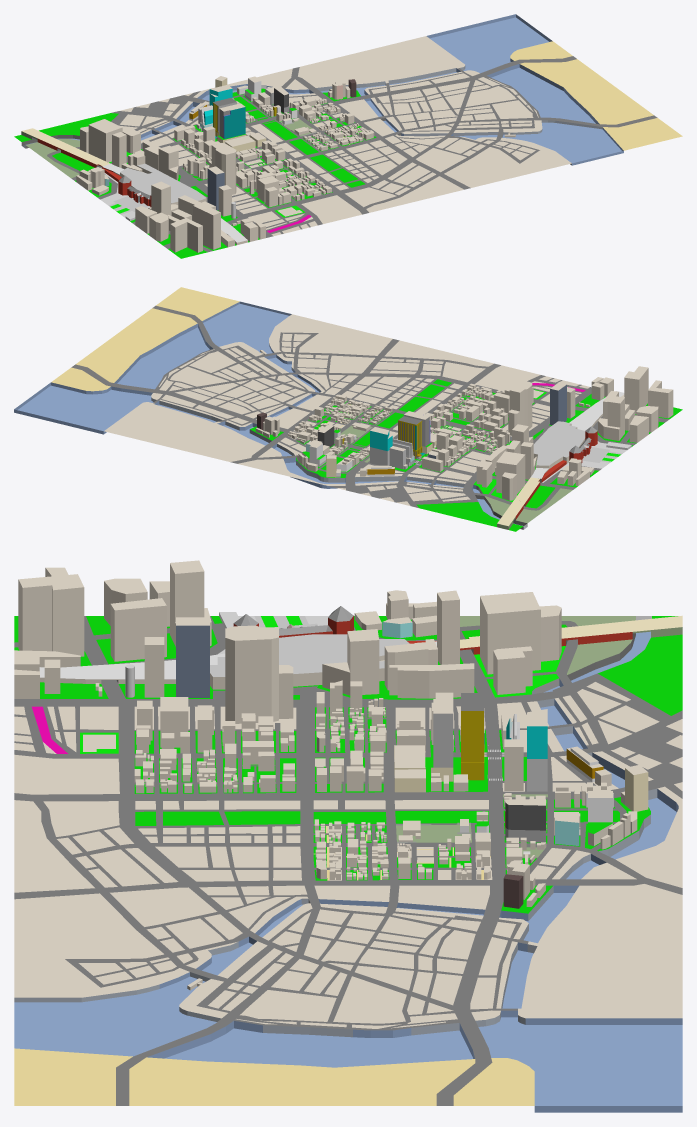
File: nihonbashi.gltf
3 renders of one model, top to bottom at view 1: azimuth 30°, elevation 25°; view 2: azimuth 150°, elevation 25°; view 3: azimuth 270°, elevation 25°, orthographic. The views are drawn at different scales.
Parts seen in each view (by area): view 1: Node5957, Node337, Node266, Node1021, Node268, Node980, Node1003, Node267, Node3205, Node27, Node3, Node269 (+11 smaller); view 2: Node5957, Node337, Node266, Node1021, Node268, Node980, Node1003, Node3205, Node267, Node27, Node3206, Node3 (+11 smaller); view 3: Node5957, Node337, Node1021, Node266, Node268, Node980, Node1003, Node267, Node27, Node3206, Node3, Node269 (+49 smaller).
Part boxes in pixels (x1,y1,x2,y2): Node5957: (47,56,657,252); Node337: (298,36,464,87); Node266: (520,59,653,124); Node1021: (430,17,548,73); Node268: (444,138,571,187); Node980: (502,122,621,163); Node1003: (491,67,595,123); Node267: (603,118,682,150); Node3205: (120,163,206,203); Node27: (366,176,463,212); Node3: (301,195,361,222); Node269: (510,41,572,60); Node5957: (71,305,668,510); Node337: (104,402,265,461); Node266: (75,308,197,382); Node1021: (17,385,153,431); Node268: (269,314,392,355); Node980: (203,304,288,353); Node1003: (117,327,209,389); Node3205: (533,421,585,465); Node267: (156,287,239,320); Node27: (384,340,493,366); Node3206: (416,502,499,526); Node3: (475,365,533,391); Node5957: (14,616,682,1105); Node337: (518,884,682,1018); Node1021: (478,1017,682,1105); Node266: (129,1057,475,1105); Node268: (14,893,189,997); Node980: (14,976,216,1056); Node1003: (164,1028,472,1067); Node267: (14,1048,132,1105); Node27: (14,800,94,892); Node3206: (598,634,682,715); Node3: (14,757,119,794); Node269: (453,1058,534,1105).
Bounding box in the file's own units: 330944 × 29189 × 190775.
